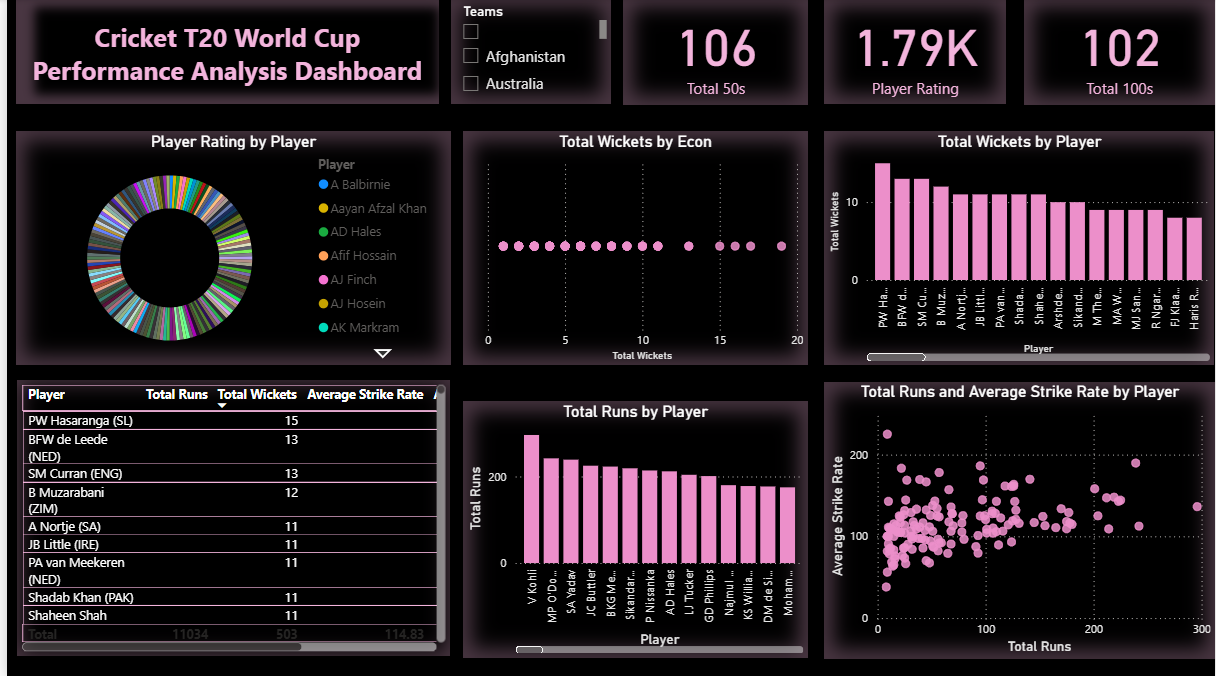

What the dashboard file says about the page in this screenshot:
{"tool":"powerbi","page":{"name":"Page 1","canvas":[1280,720],"ordinal":0},"visuals":[{"type":"clusteredColumnChart","fields":{"Category":["Players.Player"],"Y":["Most runs_Cleaned.Total Runs"]},"box":[483.5,407.2,365.8,292.7],"z":0},{"type":"clusteredColumnChart","fields":{"Category":["Players.Player"],"Y":["Most wickets_Cleaned.Total Wickets"]},"box":[866.9,141.6,413.6,248.1],"z":1000},{"type":"tableEx","fields":{"Values":["Players.Player","Most runs_Cleaned.Total Runs","Most wickets_Cleaned.Total Wickets","Most runs_Cleaned.Average Strike Rate","Most wickets_Cleaned.Average Economy","Players.Player Rating"]},"box":[9.7,404.8,461.5,294.7],"z":2000},{"type":"scatterChart","fields":{"X":["Most wickets_Cleaned.Total Wickets"],"Category":["Most wickets_Cleaned.Econ"]},"box":[483.5,141.6,365.8,248.1],"z":3000},{"type":"slicer","fields":{"Values":["Bowling Best Figures Innings_Cleaned.Team"]},"box":[470.8,0,170.2,112.9],"z":4000},{"type":"scatterChart","fields":{"X":["Most runs_Cleaned.Total Runs"],"Y":["Most runs_Cleaned.Average Strike Rate"],"Category":["Players.Player"]},"box":[866.3,406.4,414.5,293.1],"z":5000},{"type":"card","fields":{"Values":["Players.Player Rating"]},"box":[866.9,0,192.5,112.9],"z":6000},{"type":"card","fields":{"Values":["Most runs_Cleaned.Total 100s"]},"box":[1078.4,0,202.4,113.3],"z":7000},{"type":"card","fields":{"Values":["Most runs_Cleaned.Total 50s"]},"box":[654.2,0,195.9,113.3],"z":8000},{"type":"donutChart","fields":{"Y":["Players.Player Rating"],"Category":["Players.Player"]},"box":[9.5,141.6,461.3,248.1],"z":9000},{"type":"textbox","box":[9.5,0,448.6,112.9],"z":10000}]}

Visuals, with their boxes in screenshot pixels (x1, y1, x2, y2), scaled from the page's 1280x720 canvas onto the 1216x676 screenshot:
clusteredColumnChart - Players.Player x Most runs_Cleaned.Total Runs: 459 382 807 657
clusteredColumnChart - Players.Player x Most wickets_Cleaned.Total Wickets: 824 133 1215 366
tableEx - Players.Player x Most runs_Cleaned.Total Runs: 9 380 448 657
scatterChart - Most wickets_Cleaned.Total Wickets x Most wickets_Cleaned.Econ: 459 133 807 366
slicer - Bowling Best Figures Innings_Cleaned.Team: 447 0 609 106
scatterChart - Most runs_Cleaned.Total Runs x Most runs_Cleaned.Average Strike Rate: 823 382 1215 657
card - Players.Player Rating: 824 0 1006 106
card - Most runs_Cleaned.Total 100s: 1024 0 1215 106
card - Most runs_Cleaned.Total 50s: 621 0 808 106
donutChart - Players.Player Rating x Players.Player: 9 133 447 366
textbox: 9 0 435 106
